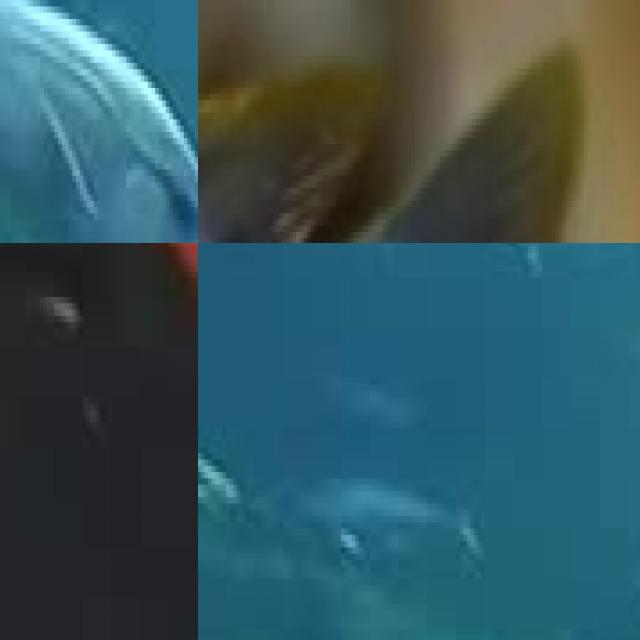fish: (198, 43, 640, 243), (0, 0, 198, 243)
